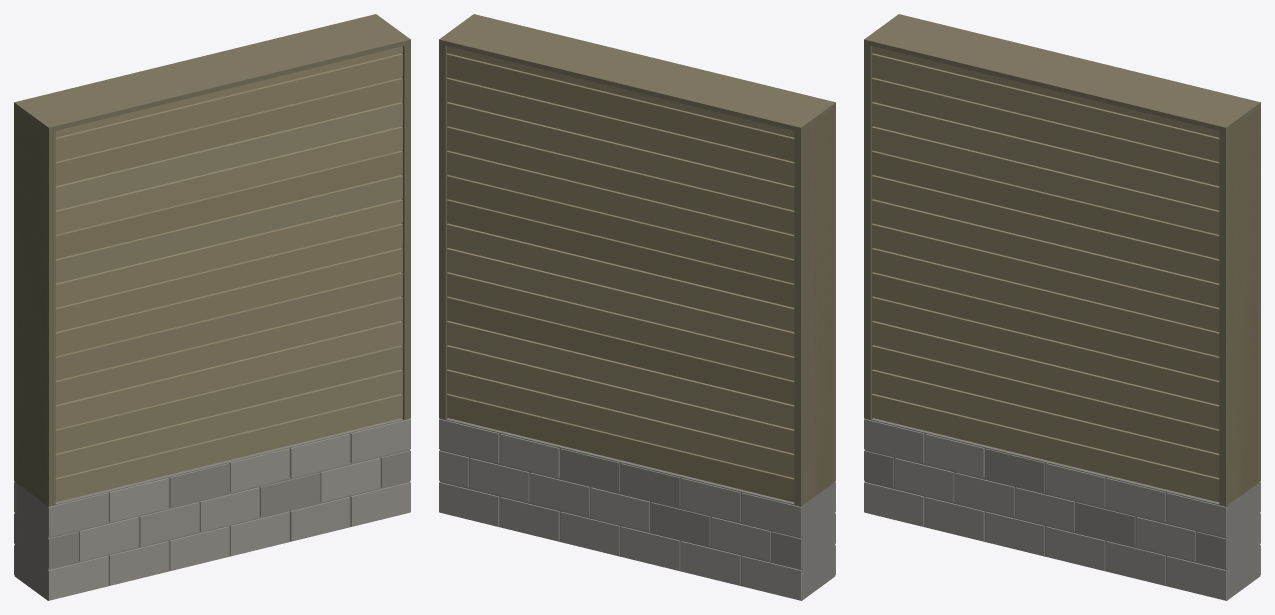
File: range_wall.glb
The picture shows the model from 3 angles, left to right: view 1: azimuth 30°, elevation 25°; view 2: azimuth 150°, elevation 25°; view 3: azimuth 330°, elevation 25°; orthographic projection.
Parts seen in each view (by area): view 1: RangeWall; view 2: RangeWall; view 3: RangeWall.
Part boxes in pixels (x1,y1,x2,y2): RangeWall: [14, 14, 410, 600]; RangeWall: [439, 14, 835, 600]; RangeWall: [864, 14, 1260, 600].
Size of the model in its own units: 2.4 by 3 by 0.4.
